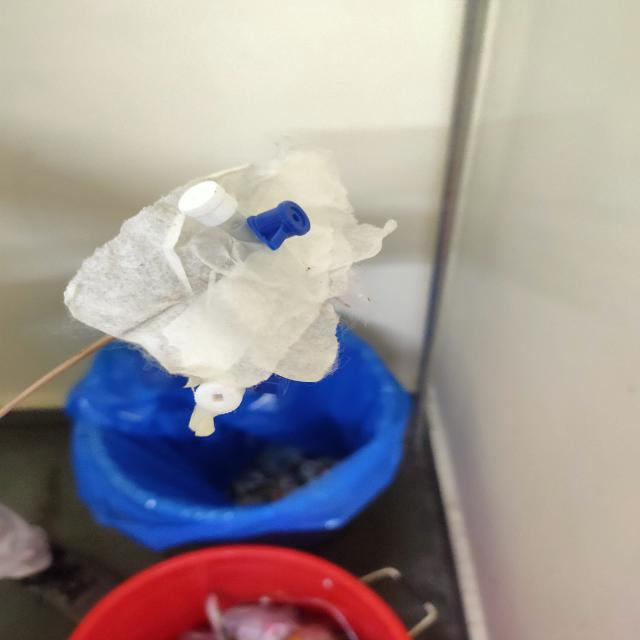B3: (177, 178, 312, 251)
